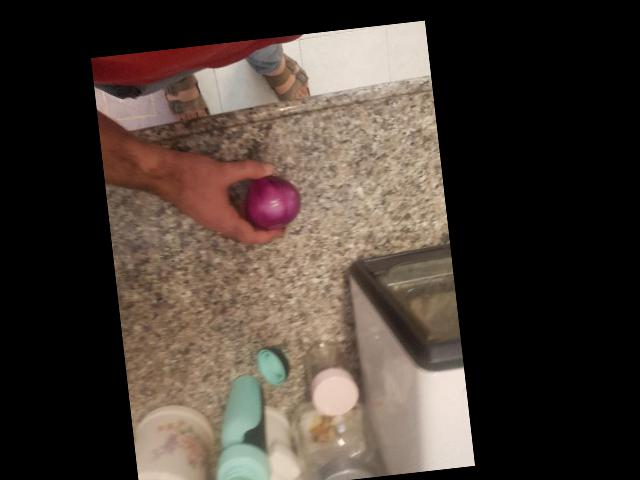onion: (240, 172, 299, 231)
